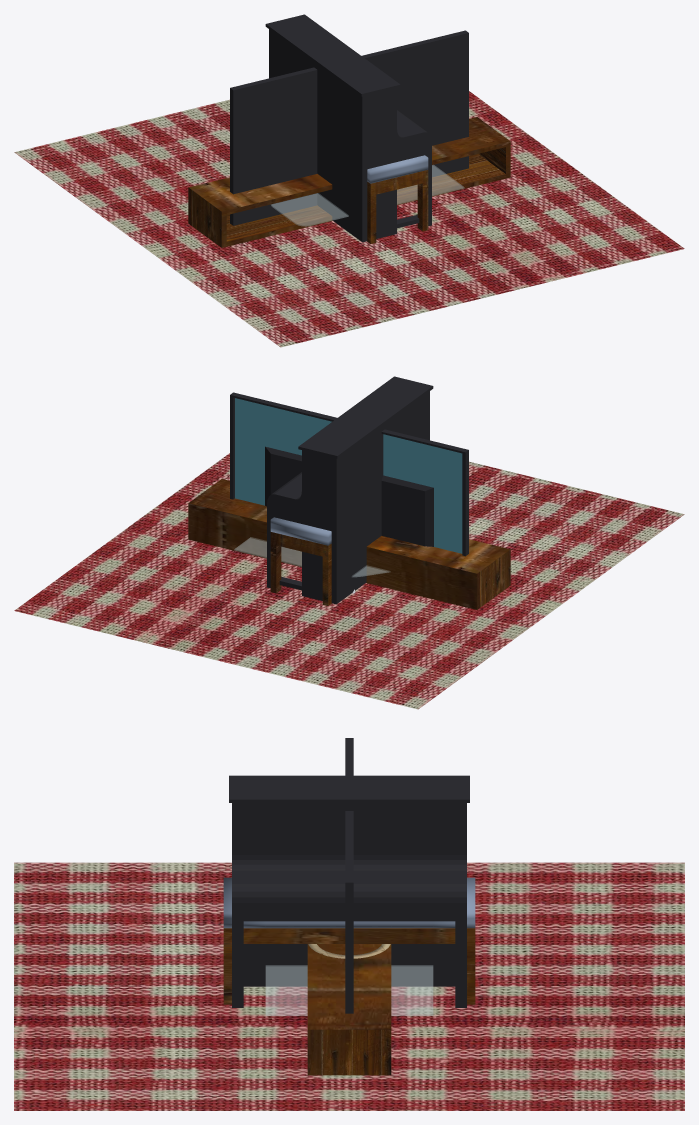
The model's file is living_set.glb.
The picture shows the model from 3 angles, top to bottom: view 1: azimuth 30°, elevation 25°; view 2: azimuth 150°, elevation 25°; view 3: azimuth 270°, elevation 25°; orthographic projection. The views are drawn at different scales.
Visible parts, largest first — view 1: rug, painting, piano, console, bench, table, tv; view 2: rug, piano, console, painting, tv, bench, table; view 3: rug, piano, console, bench, table, painting.
Boxes of the visible parts, box(x1,y1,x2,y2) form: rug: box(14, 91, 684, 347); painting: box(230, 30, 468, 225); piano: box(265, 14, 431, 242); console: box(188, 117, 510, 247); bench: box(367, 155, 428, 243); table: box(271, 165, 464, 226); tv: box(264, 84, 437, 217); rug: box(14, 453, 684, 709); piano: box(267, 376, 433, 604); console: box(188, 479, 510, 609); painting: box(230, 392, 468, 556); tv: box(265, 446, 433, 546); bench: box(270, 517, 331, 605); table: box(234, 537, 390, 593); rug: box(14, 862, 684, 1110); piano: box(229, 775, 469, 1007); console: box(307, 944, 391, 1075); bench: box(223, 877, 475, 1004); table: box(266, 965, 432, 1015); painting: box(345, 738, 353, 1013).
Size of the model in its own units: 3.5 by 1.24 by 4.
10 materials, 3 textured.
